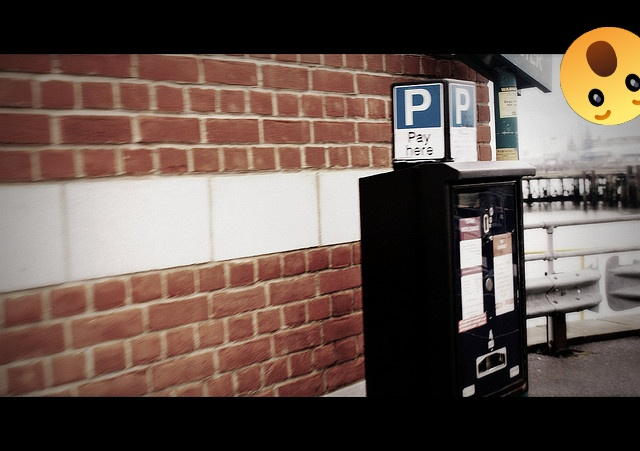wow: (560, 27, 640, 125)
